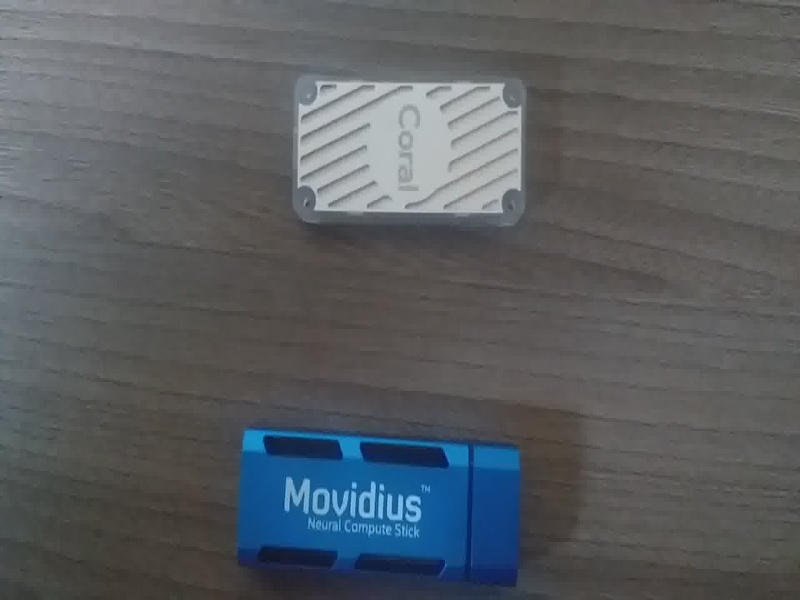coral: (279, 66, 540, 237)
movidius: (229, 421, 526, 584)
